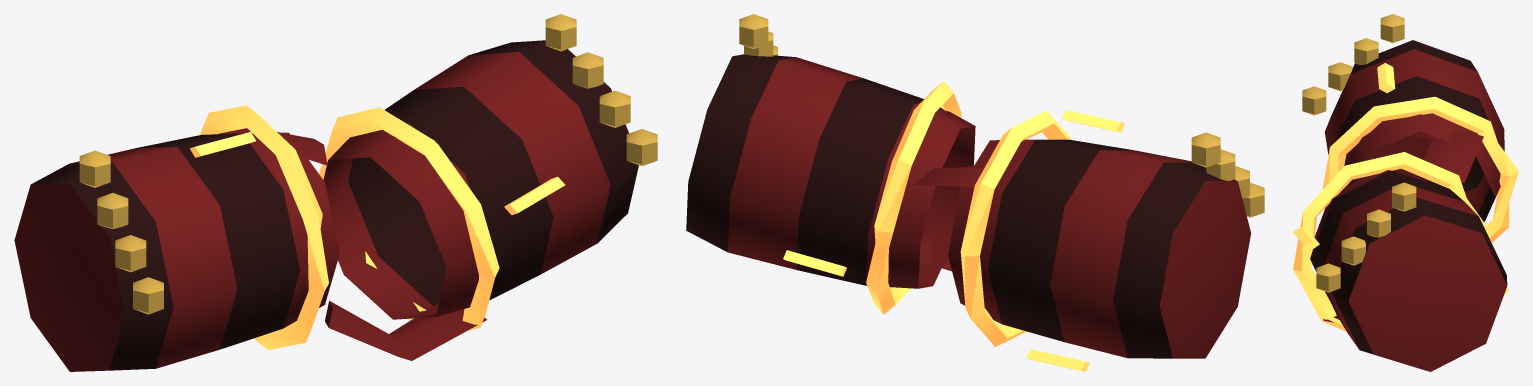
Rendered from handwraps-sun.glb.
3 renders of one model, left to right at view 1: azimuth 30°, elevation 25°; view 2: azimuth 150°, elevation 25°; view 3: azimuth 270°, elevation 25°, orthographic. The views are drawn at different scales.
Visible parts, largest first — view 1: handwraps-sun, OffHand; view 2: handwraps-sun, OffHand; view 3: OffHand, handwraps-sun.
Boxes of the visible parts, <box> form: handwraps-sun: <box>14,105,487,371</box>; OffHand: <box>218,14,657,330</box>; handwraps-sun: <box>919,110,1264,371</box>; OffHand: <box>686,14,984,314</box>; OffHand: <box>1293,130,1509,371</box>; handwraps-sun: <box>1302,14,1518,322</box>.
Bounding box in the file's own units: 0.2132 × 0.1032 × 0.0978.
